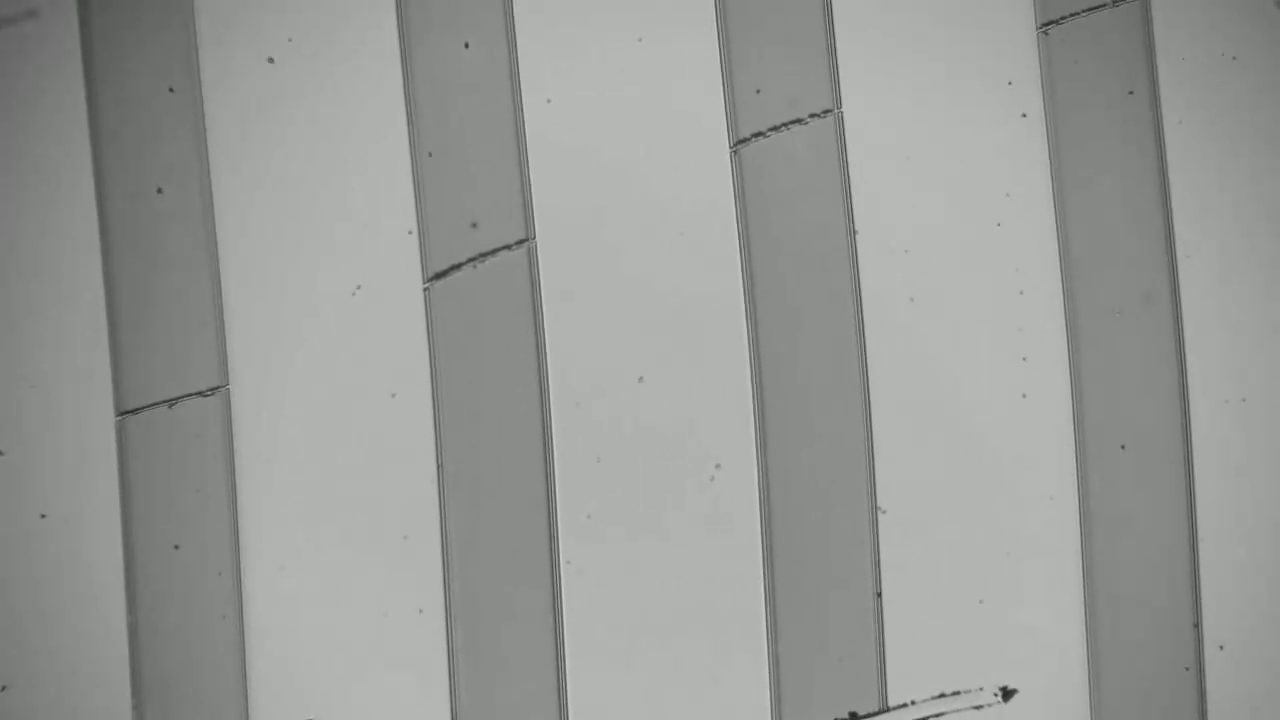Short_circuit: (124, 366, 218, 434), (742, 100, 829, 157), (436, 232, 517, 282), (1049, 1, 1124, 38)
